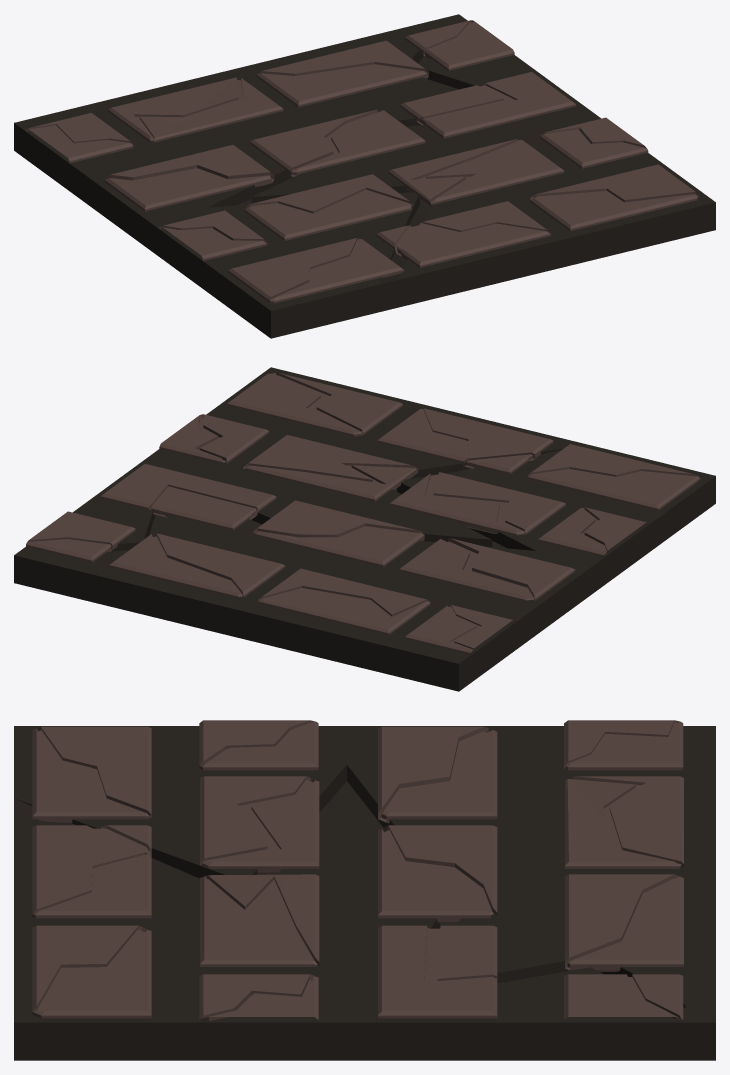
Rendered from Pared rota v2.fbx.
3 views of the same model, one above another, from view 1: azimuth 30°, elevation 25°; view 2: azimuth 150°, elevation 25°; view 3: azimuth 270°, elevation 25° (orthographic). The views are drawn at different scales.
Parts seen in each view (by area): view 1: polySurface285; view 2: polySurface285; view 3: polySurface285.
Part boxes in pixels (<box>): polySurface285: <box>14,14,715,338</box>; polySurface285: <box>14,367,715,691</box>; polySurface285: <box>14,720,715,1060</box>.
Bounding box in the file's own units: 2.99 × 0.2063 × 2.99.
